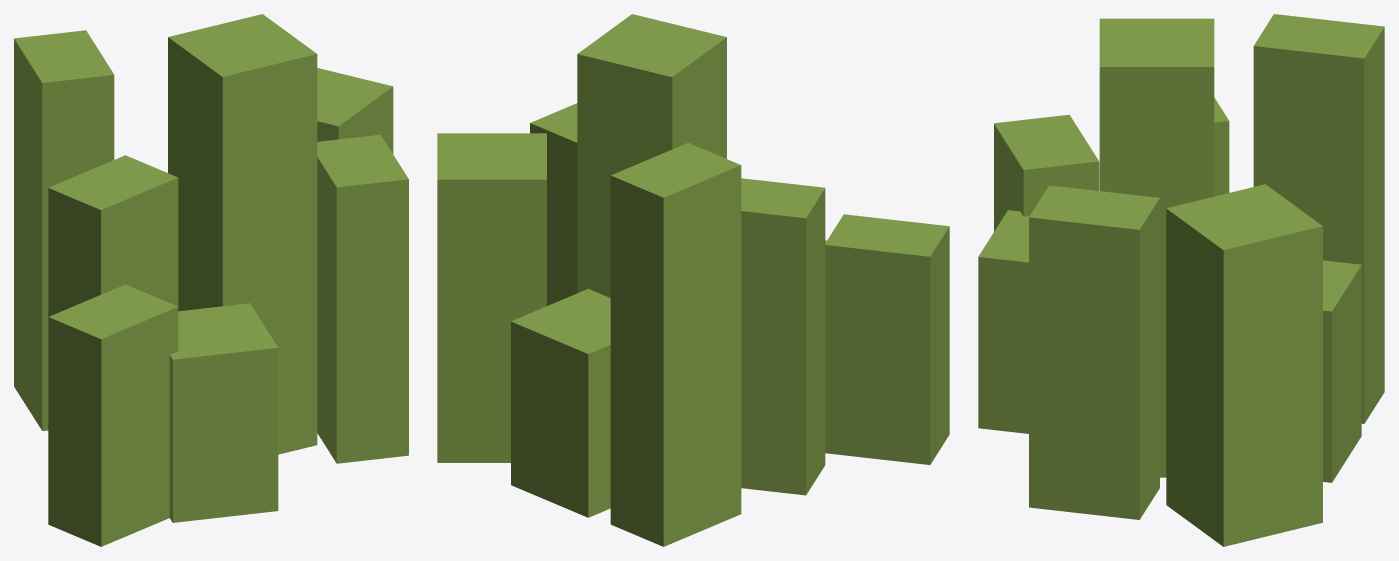
The model's file is SM_Grass_01_A.fbx.
3 views of the same model, side by side, from view 1: azimuth 30°, elevation 25°; view 2: azimuth 150°, elevation 25°; view 3: azimuth 270°, elevation 25° (orthographic). The views are drawn at different scales.
Parts seen in each view (by area): view 1: pCube228; view 2: pCube228; view 3: pCube228.
Boxes of the visible parts, bbox=[...] form: pCube228: bbox=[14, 14, 408, 546]; pCube228: bbox=[437, 14, 949, 546]; pCube228: bbox=[978, 14, 1384, 546].
Size of the model in its own units: 17.54 by 15.68 by 14.06.
